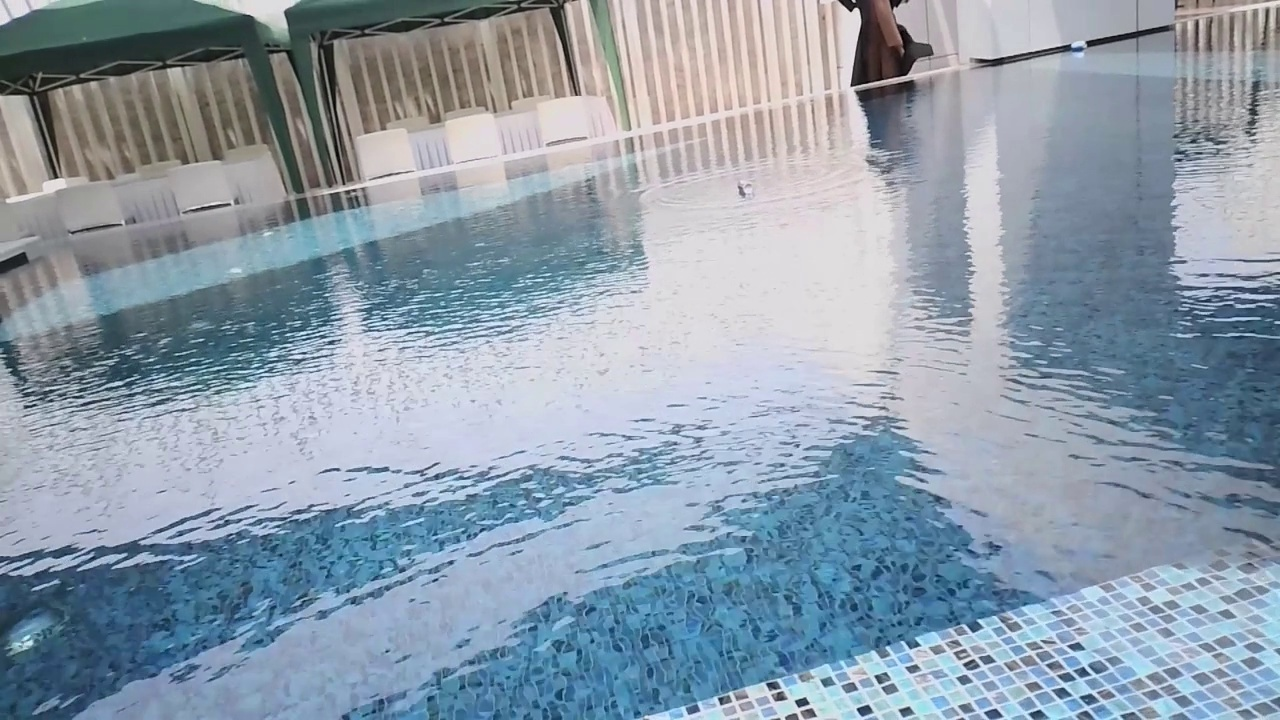debris: (735, 177, 758, 200), (1066, 37, 1090, 56)
